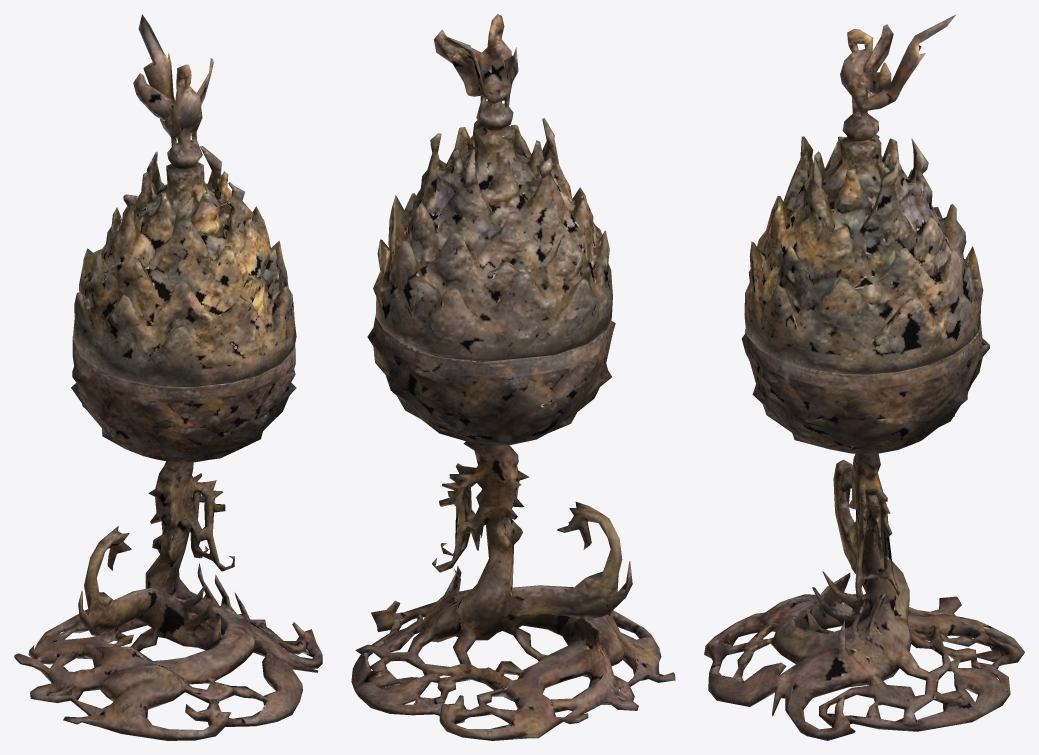
Rendered from hyangro.glb.
The picture shows the model from 3 angles, left to right: view 1: azimuth 30°, elevation 25°; view 2: azimuth 150°, elevation 25°; view 3: azimuth 270°, elevation 25°; orthographic projection. The views are drawn at different scales.
Parts seen in each view (by area): view 1: Low; view 2: Low; view 3: Low.
Part boxes in pixels (x1,y1,x2,y2): Low: (14,14,322,740); Low: (351,14,675,740); Low: (704,14,1024,740).
Size of the model in its own units: 2.57 by 5.78 by 2.51.
Materials: 1 (1 with a texture image).
